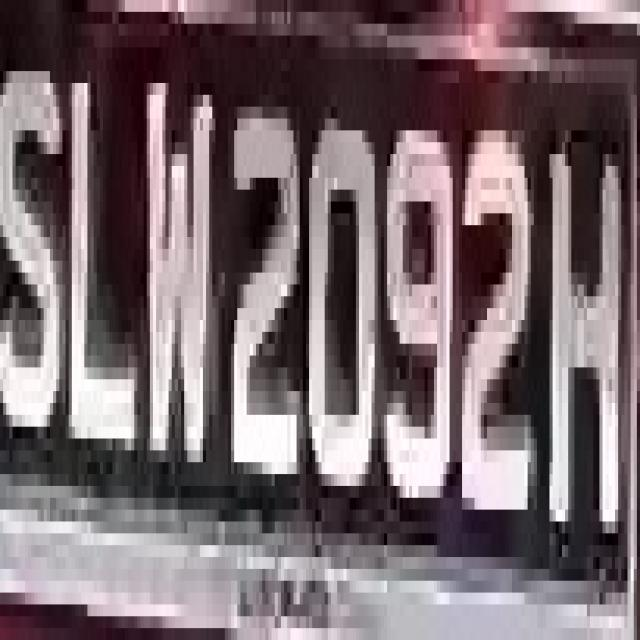0: (309, 83, 378, 498)
2: (456, 119, 540, 557), (228, 83, 306, 521)
9: (371, 95, 456, 533)
H: (543, 118, 618, 569)
L: (68, 12, 144, 486)
S: (3, 47, 72, 498)
W: (134, 59, 219, 498)
